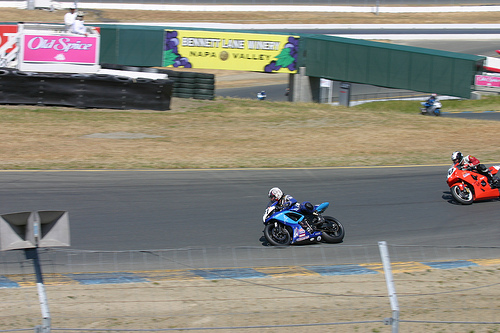helmet: (268, 186, 284, 202), (450, 149, 463, 163)
